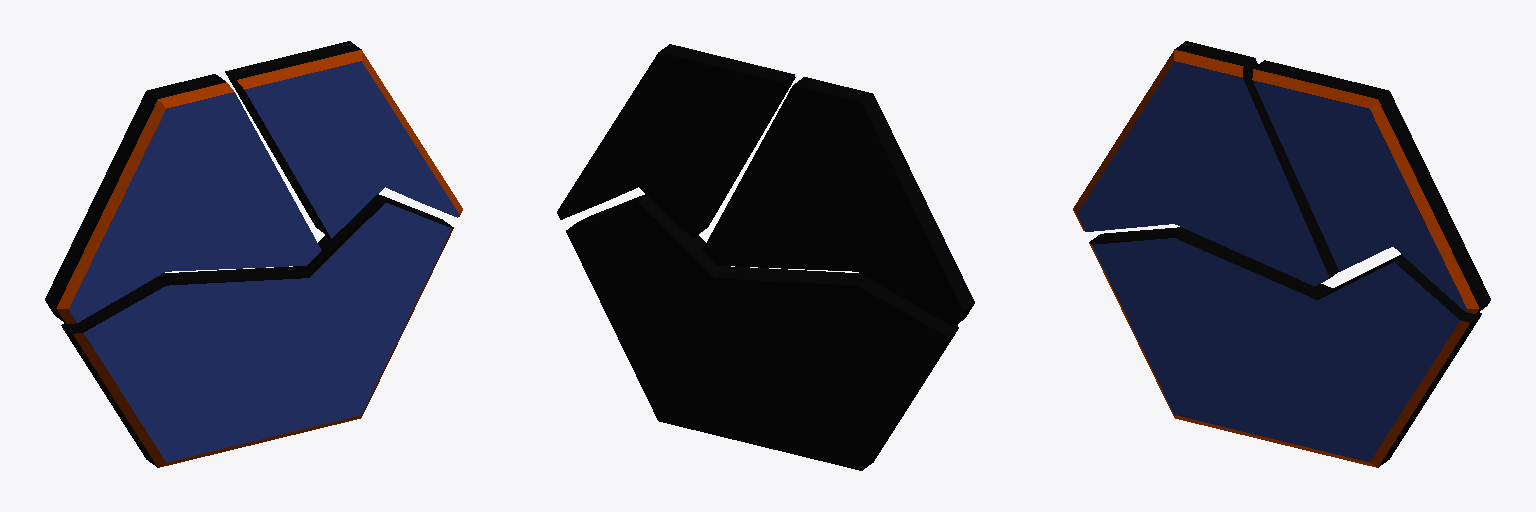
File: hex-tile-damaged.obj
3 views of the same model, side by side, from view 1: azimuth 30°, elevation 25°; view 2: azimuth 150°, elevation 25°; view 3: azimuth 330°, elevation 25° (orthographic).
Parts seen in each view (by area): view 1: Cylinder_Cylinder.001, Cylinder.003_Cylinder.004, Cylinder.002_Cylinder.003; view 2: Cylinder_Cylinder.001, Cylinder.003_Cylinder.004, Cylinder.002_Cylinder.003; view 3: Cylinder_Cylinder.001, Cylinder.003_Cylinder.004, Cylinder.002_Cylinder.003.
Boxes of the visible parts, <box> form: Cylinder_Cylinder.001: <box>61,194,453,467</box>; Cylinder.003_Cylinder.004: <box>45,74,321,323</box>; Cylinder.002_Cylinder.003: <box>225,41,462,238</box>; Cylinder_Cylinder.001: <box>566,194,958,470</box>; Cylinder.003_Cylinder.004: <box>702,77,974,326</box>; Cylinder.002_Cylinder.003: <box>557,44,795,238</box>; Cylinder_Cylinder.001: <box>1089,227,1481,467</box>; Cylinder.003_Cylinder.004: <box>1073,41,1339,285</box>; Cylinder.002_Cylinder.003: <box>1252,60,1490,314</box>.
Bounding box in the file's own units: 1.14 × 0.9889 × 0.0771.